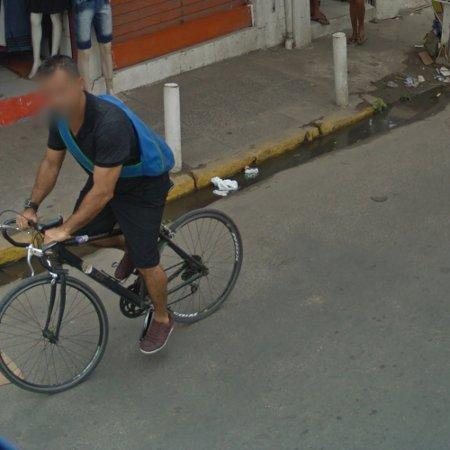bicycles: (0, 217, 154, 393), (159, 210, 243, 324)
